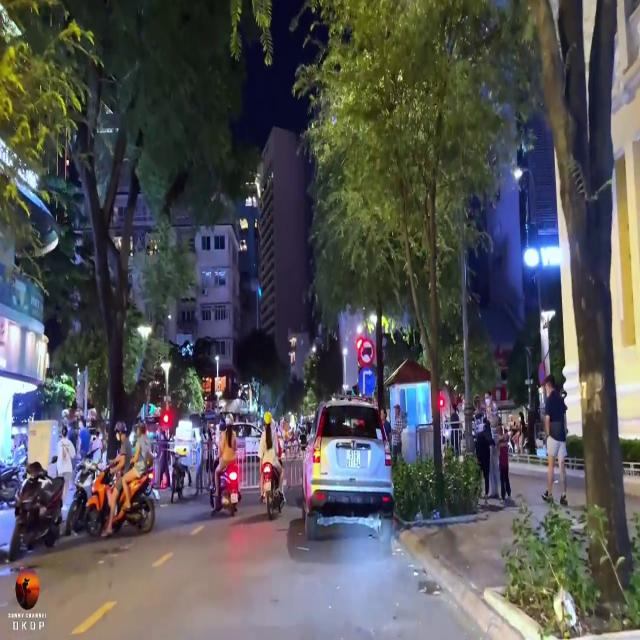bien_trang: (344, 447, 362, 471)
